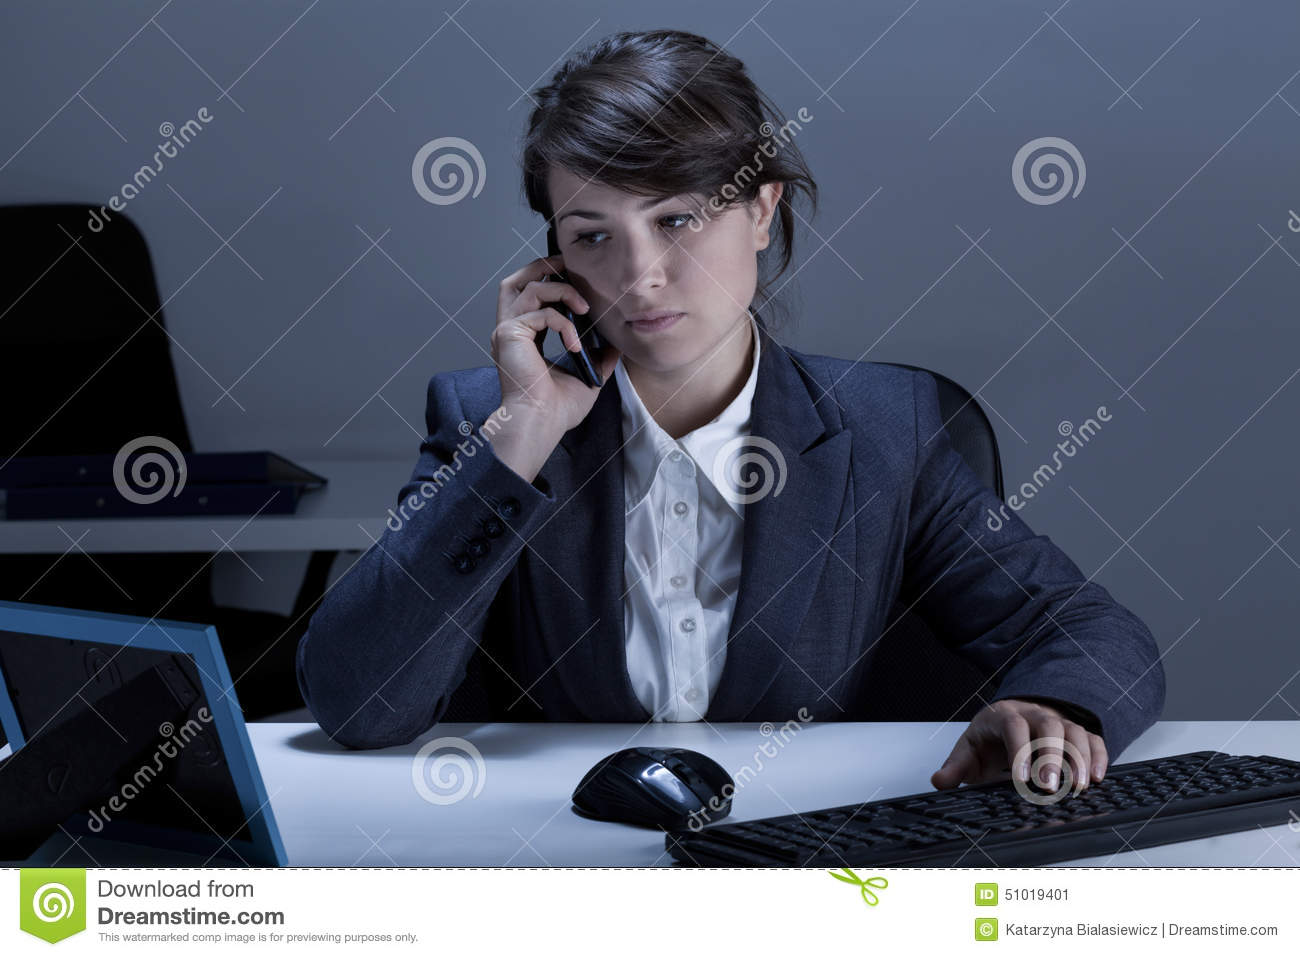phone: (530, 228, 604, 389)
talk: (488, 177, 731, 447)
